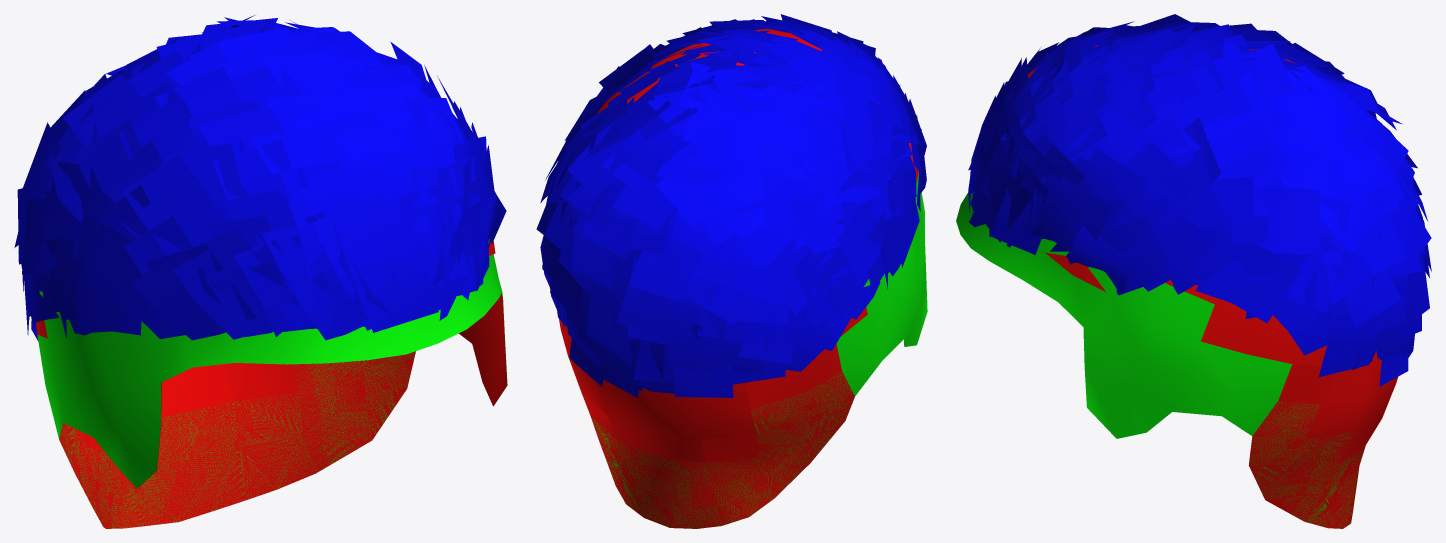
Rendered from hair_003.obj.
The picture shows the model from 3 angles, left to right: view 1: azimuth 30°, elevation 25°; view 2: azimuth 150°, elevation 25°; view 3: azimuth 270°, elevation 25°; orthographic projection. The views are drawn at different scales.
Size of the model in its own units: 16.17 by 21.01 by 19.1.
